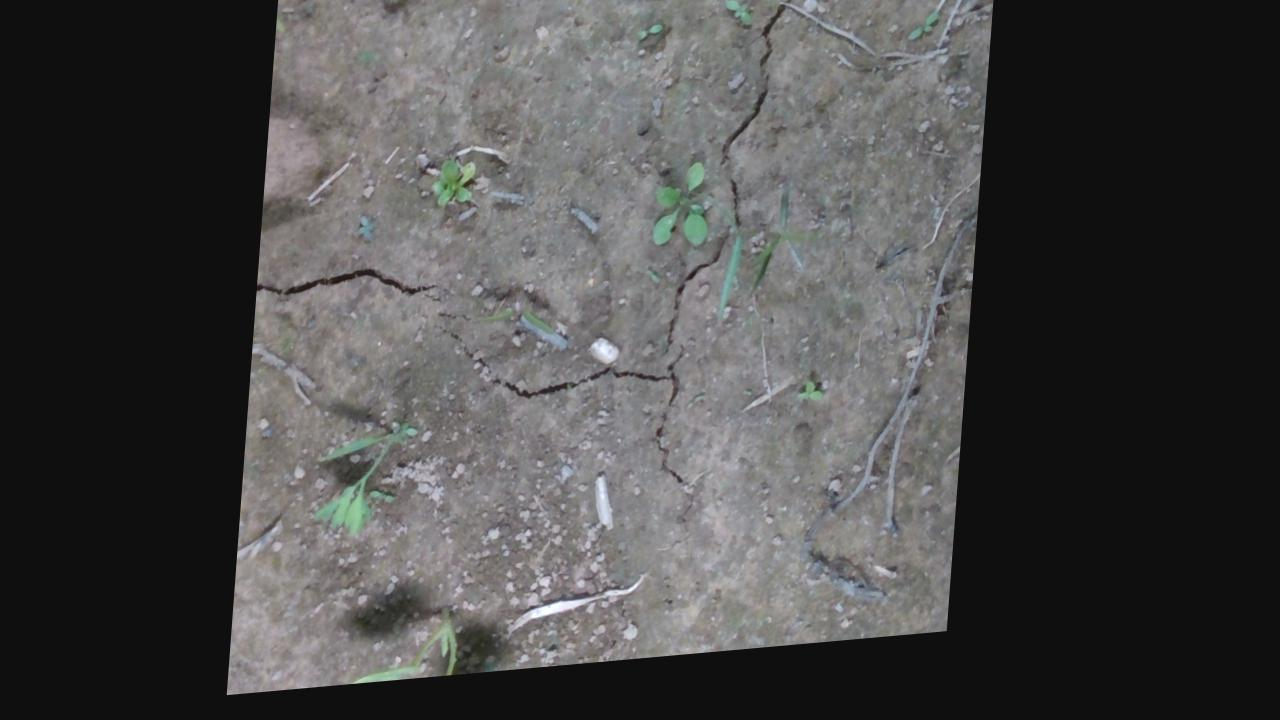weed: (652, 175, 716, 263), (432, 168, 480, 217), (723, 10, 758, 46), (354, 221, 382, 253), (800, 395, 831, 420), (635, 35, 665, 56)
